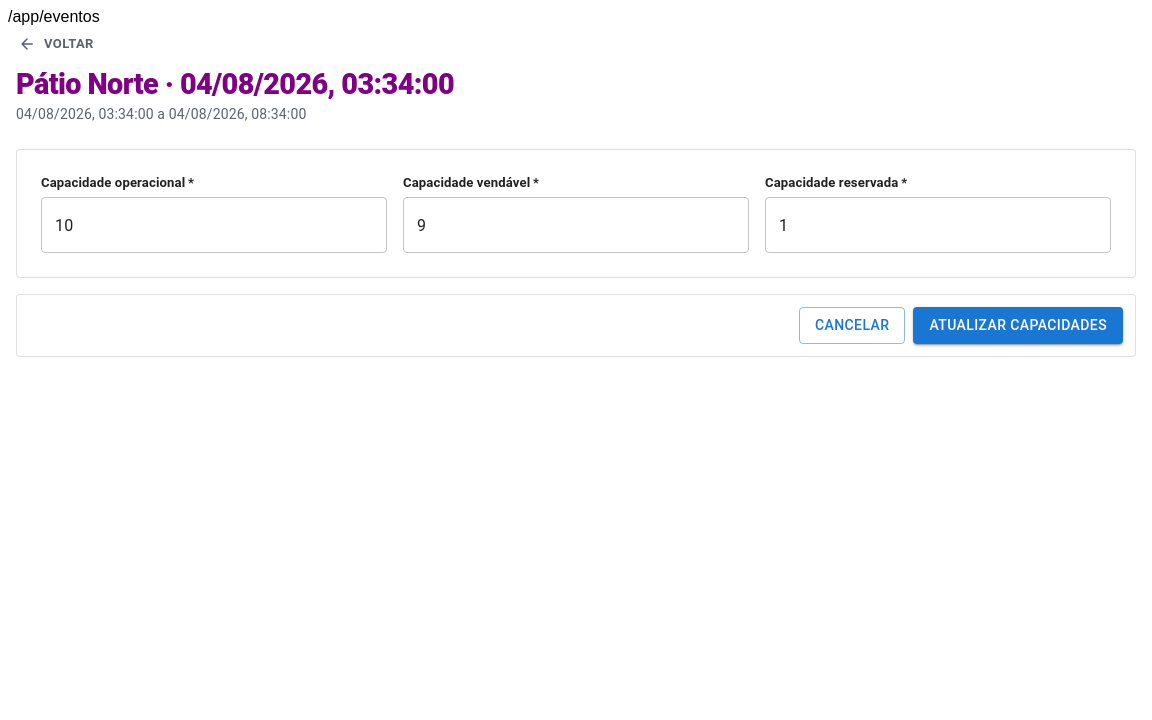
Test: EventsPage › abre alocação por URL, consulta o registro pela API e volta com o filtro do evento
Expected: the heading "Pátio Norte · 04/08/2026, 03:34:00" is shown, [16,68,454,101]
Expected: the field labelled "Evento para listar alocações" is not shown
Replace the text in the number field labelled "Capacidade operacional" with "9": (214, 225) [41,197,387,253]
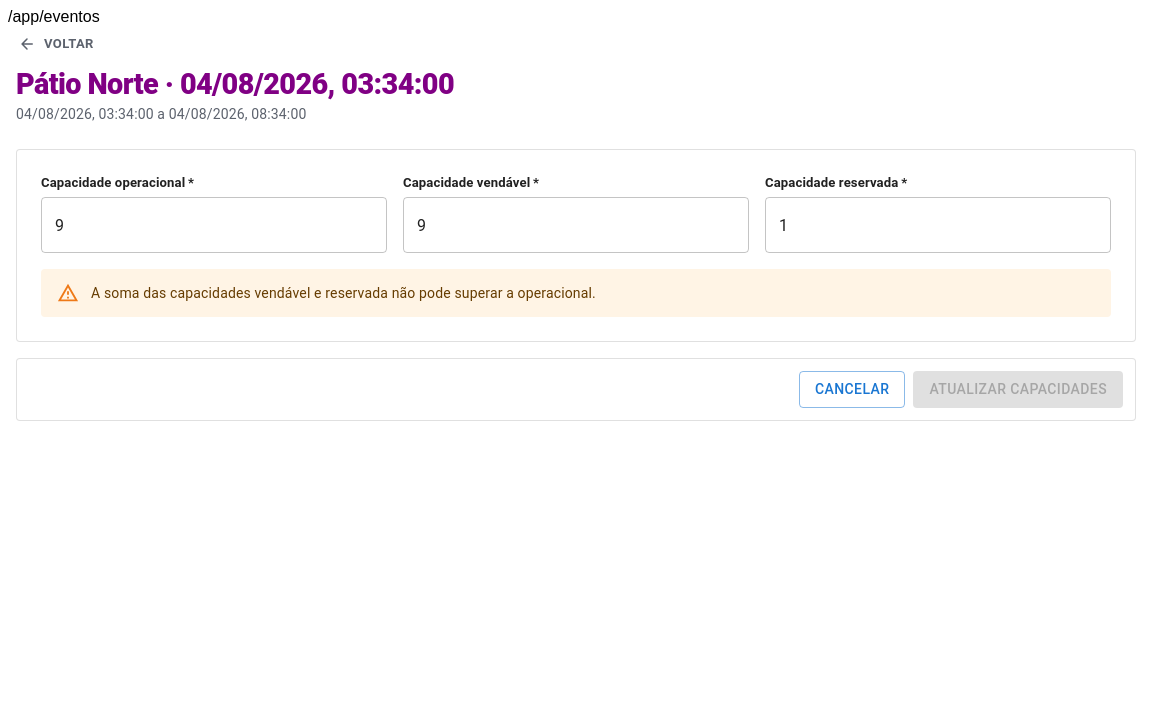
Now the button "Atualizar capacidades" is disabled, box [913,371,1123,408]
Submit the form named "Pátio Norte", box [16,149,1136,421]
Replace the text in the number field labelled "Capacidade operacional" with "10": (214, 225) [41,197,387,253]
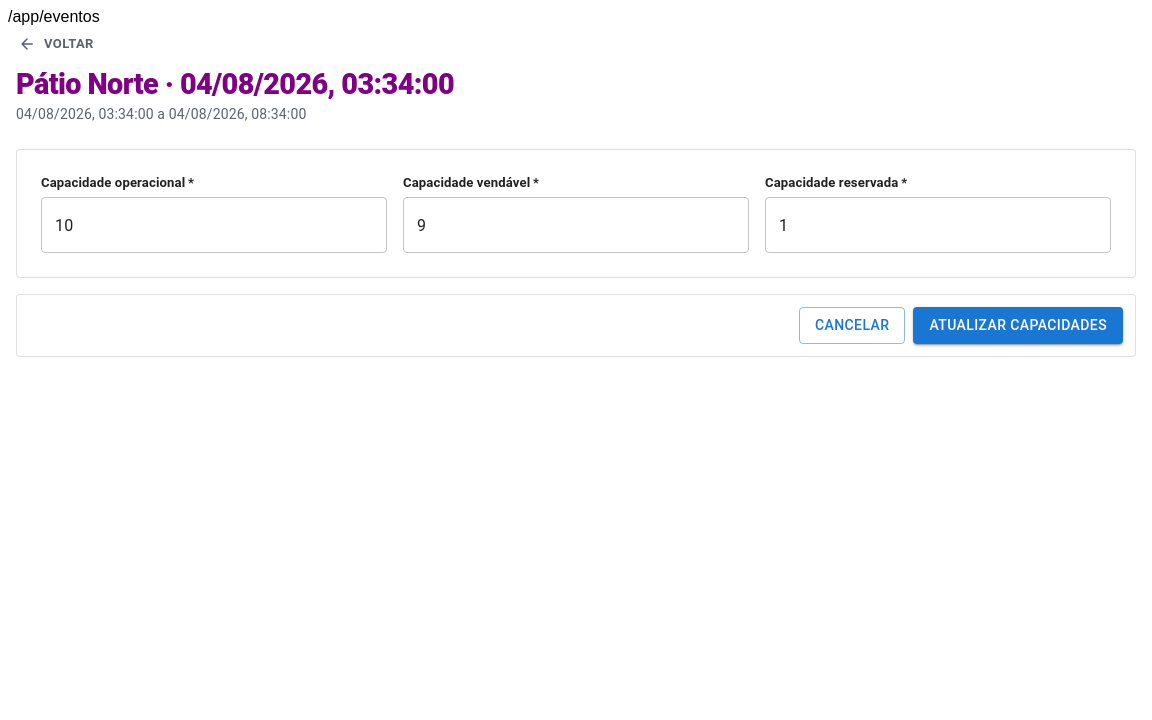
Click the button "Atualizar capacidades": click(1018, 326) [913,307,1123,344]
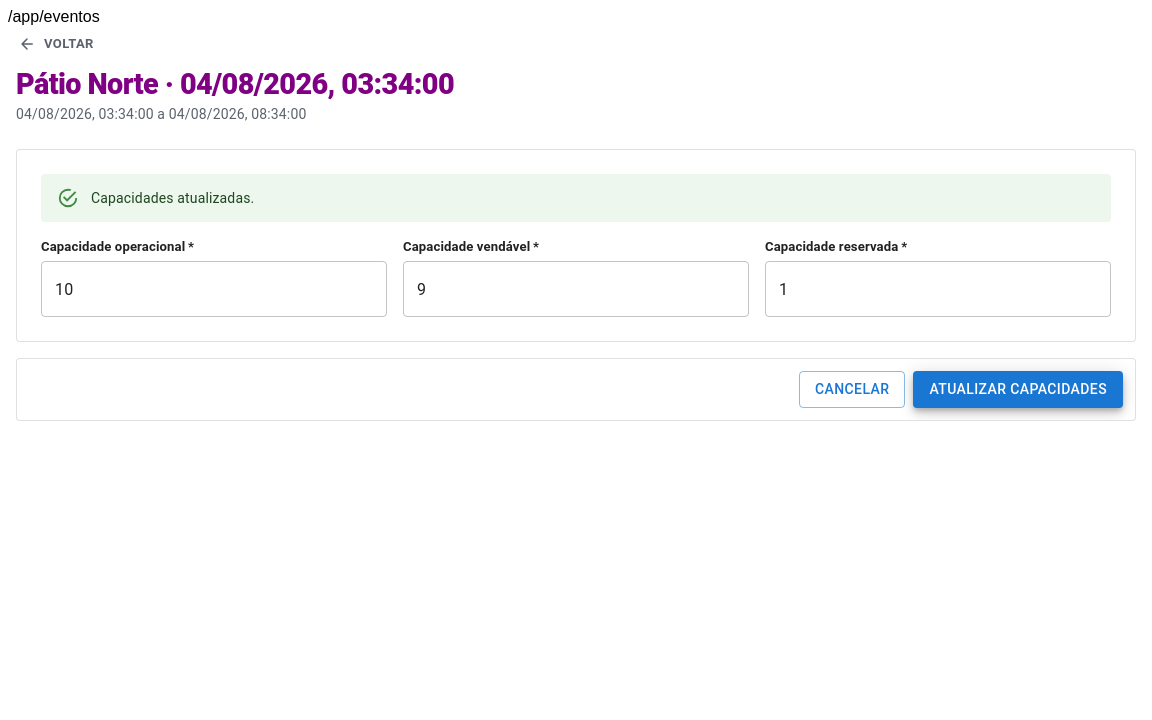
Click the button "Voltar": click(57, 44) [16,26,98,62]
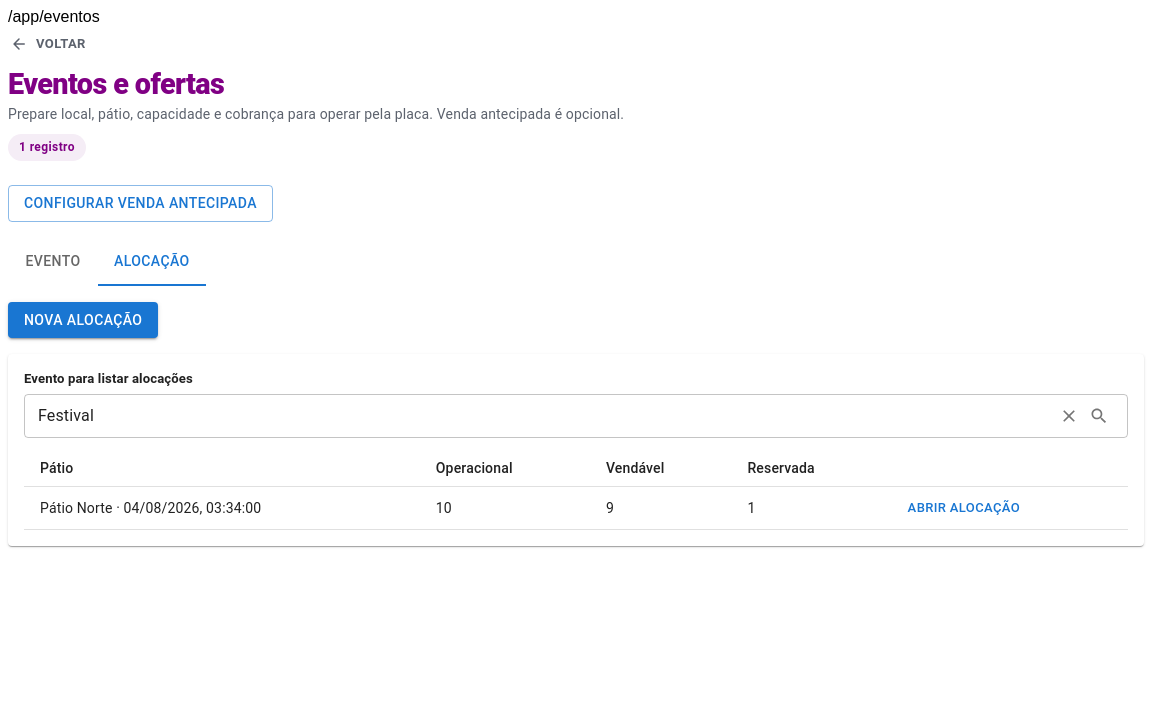
Now the tab "Alocação" is shown, box [98,238,206,286]
Now the field labelled "Evento para listar alocações" holds "Festival", box [24,396,1046,436]
